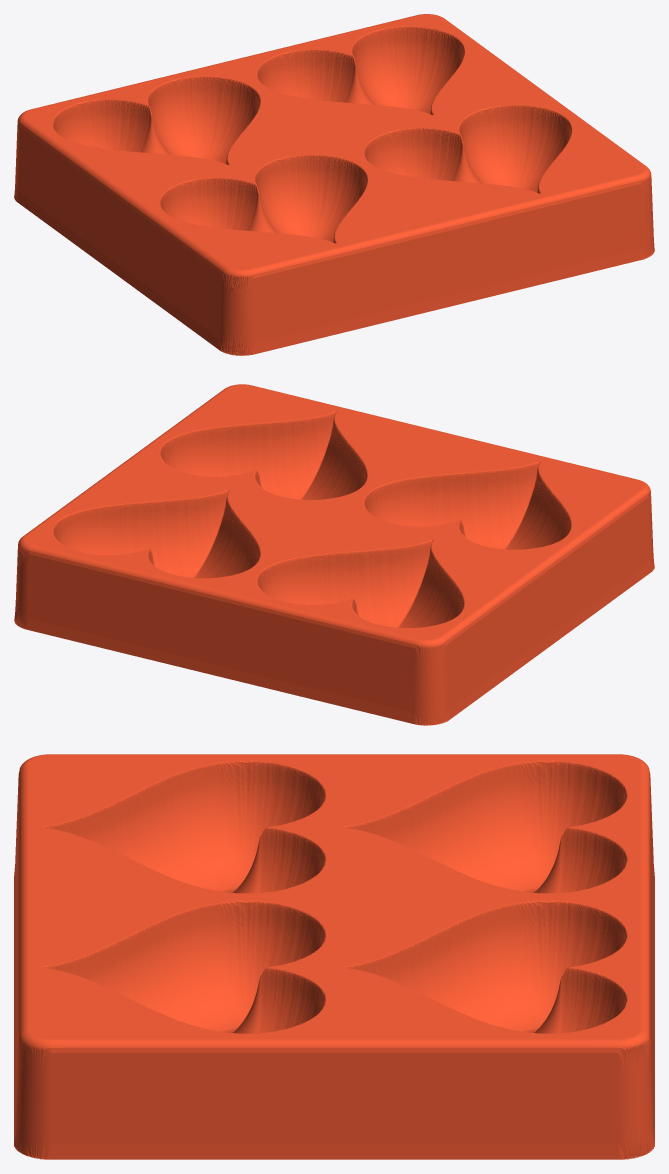
Rendered from mold.glb.
The picture shows the model from 3 angles, top to bottom: view 1: azimuth 30°, elevation 25°; view 2: azimuth 150°, elevation 25°; view 3: azimuth 270°, elevation 25°; orthographic projection. The views are drawn at different scales.
Visible parts, largest first — view 1: geometry_0; view 2: geometry_0; view 3: geometry_0.
Part boxes in pixels (x1,y1,x2,y2): geometry_0: (14, 14, 654, 355); geometry_0: (14, 384, 654, 725); geometry_0: (14, 754, 654, 1159).
Bounding box in the file's own units: 0.1721 × 0.031 × 0.1573.
